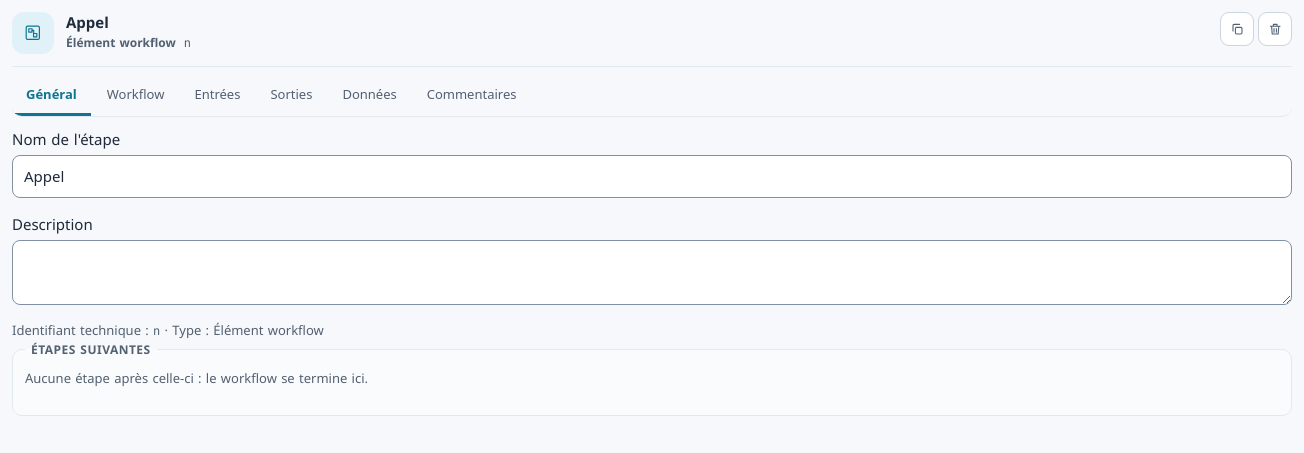
Test: version du workflow appelé — étape subworkflow › affiche la version ÉPINGLÉE du graphe, pas la dernière du catalogue
What coordinates should you click on to do the following:
click the tab "Workflow"
I would click on:
 (136, 96)
Its box is [93,77,178,116].
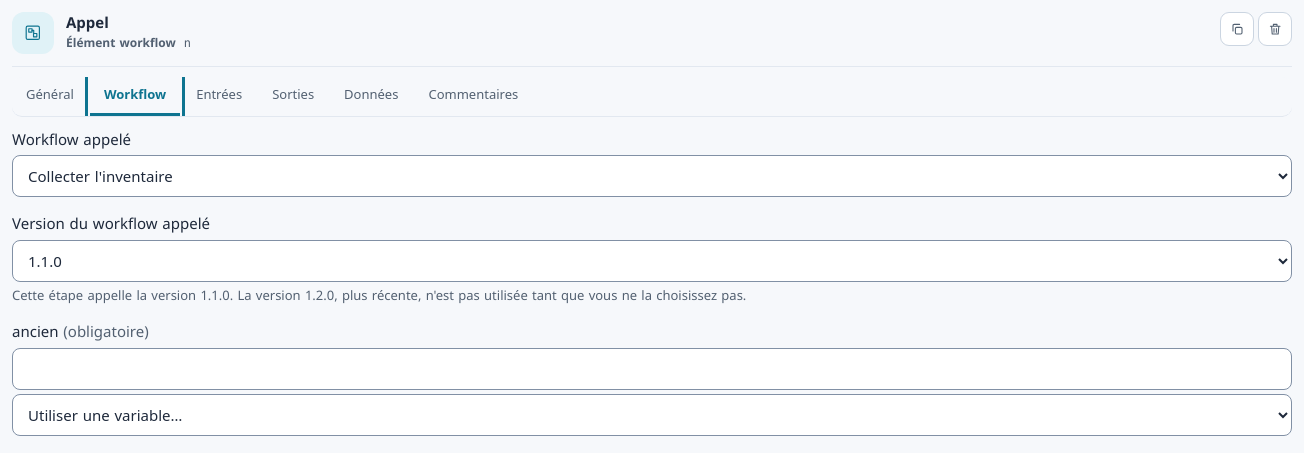
Expected: the field labelled "Workflow appelé" does not show "1.2.0"
Now the dropdown labelled "Version du workflow appelé" shows "1.1.0", box [12,240,1292,282]
Now the text "appelle la version 1.1.0. La version 1.2.0, plus récente, n'est pas utilisée" is shown, box [12,286,746,304]
